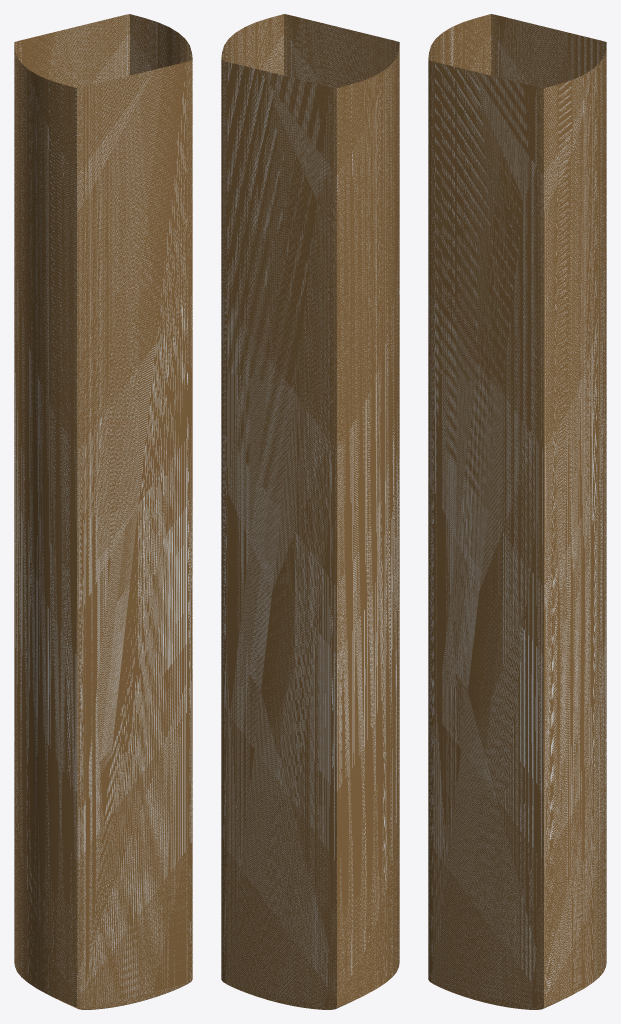
Rendered from original-10.obj.
The picture shows the model from 3 angles, left to right: view 1: azimuth 30°, elevation 25°; view 2: azimuth 150°, elevation 25°; view 3: azimuth 330°, elevation 25°; orthographic projection.
Visible parts, largest first — view 1: Plane007_1/Plane007/mesh8/mesh8-geometry#mesh8-geometry; view 2: Plane007_1/Plane007/mesh8/mesh8-geometry#mesh8-geometry; view 3: Plane007_1/Plane007/mesh8/mesh8-geometry#mesh8-geometry.
Part boxes in pixels (box(x1,y1,x2,y2)): Plane007_1/Plane007/mesh8/mesh8-geometry#mesh8-geometry: box(14, 14, 192, 1009); Plane007_1/Plane007/mesh8/mesh8-geometry#mesh8-geometry: box(221, 14, 399, 1009); Plane007_1/Plane007/mesh8/mesh8-geometry#mesh8-geometry: box(428, 14, 606, 1009).
Size of the model in its own units: 0.0663 by 0.3917 by 0.0485.
